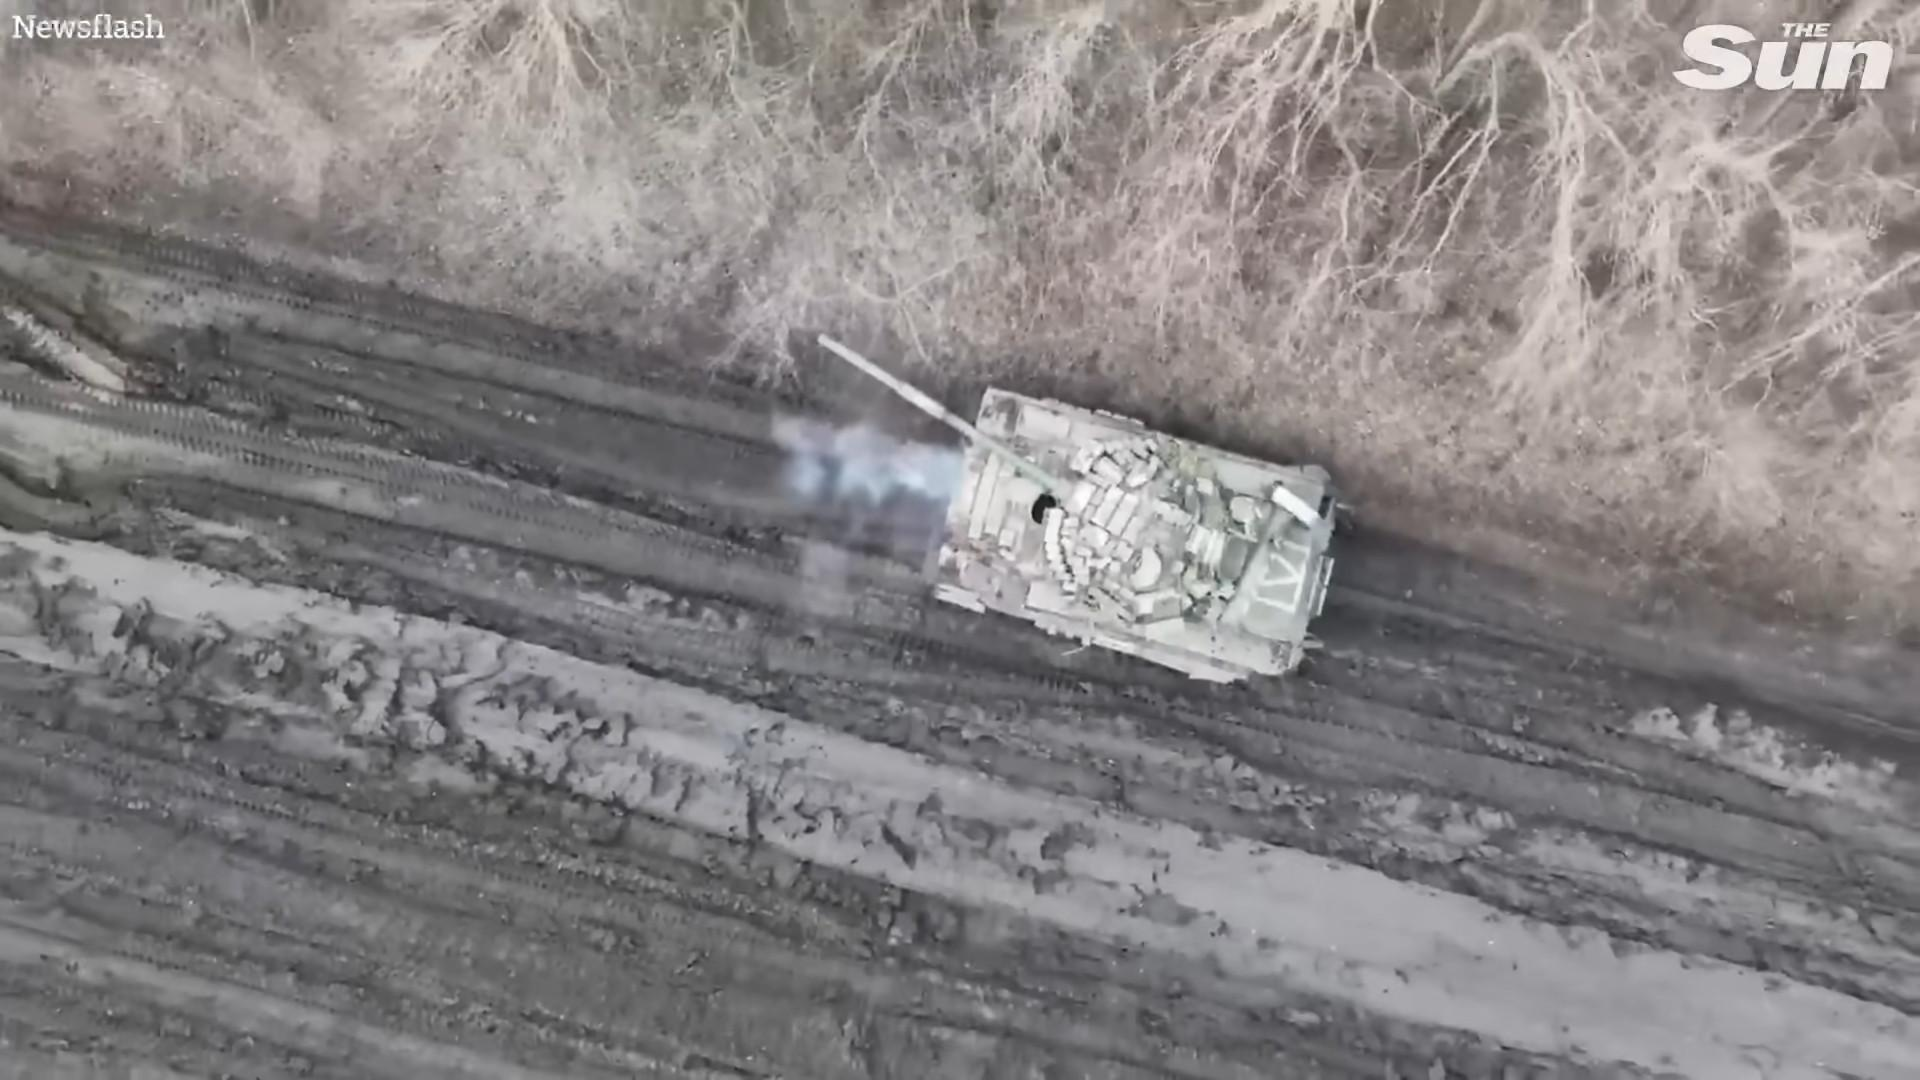tank: (816, 328, 1342, 684)
